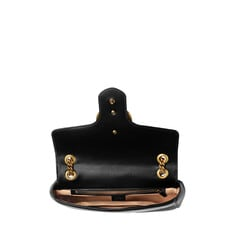Gucci: (48, 109, 184, 208)
